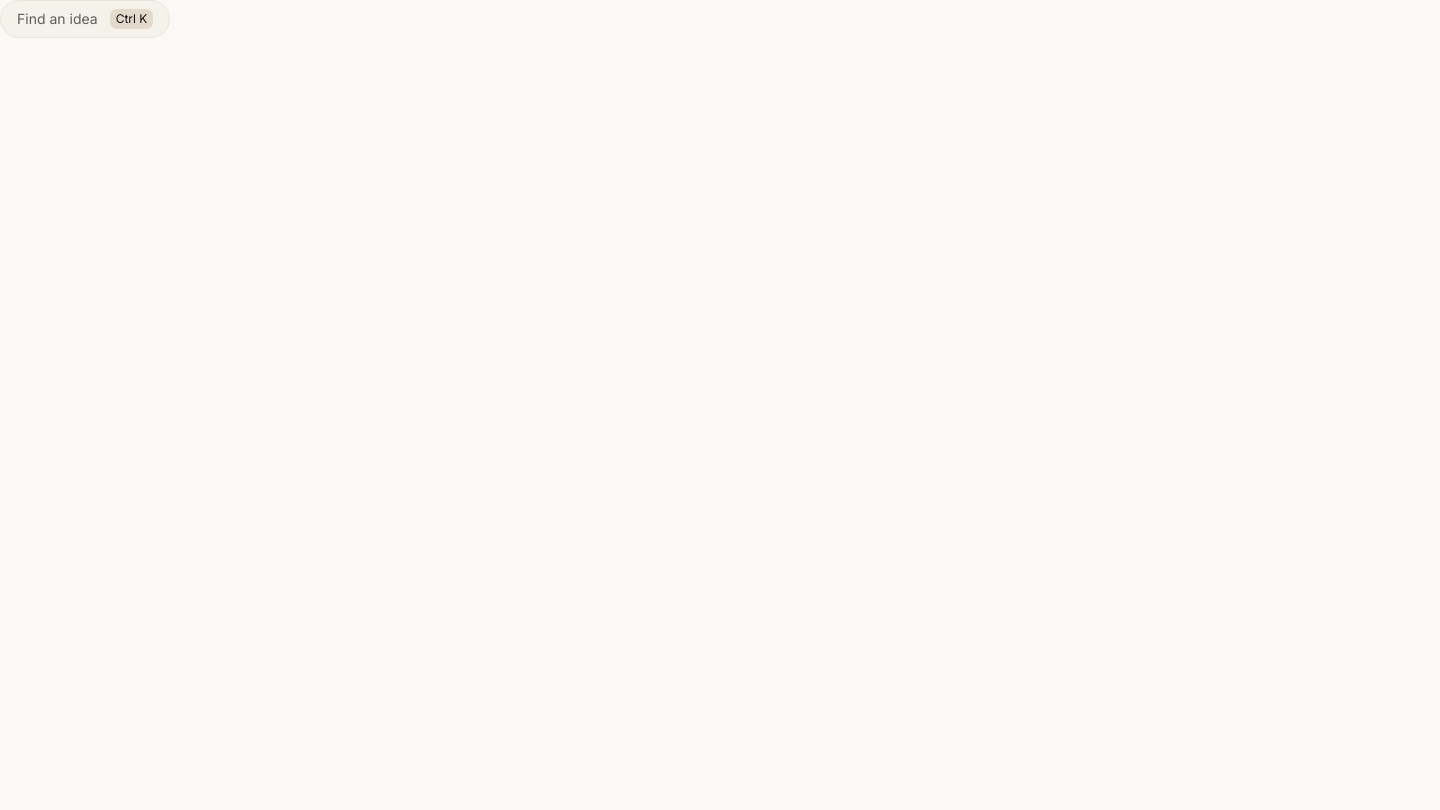
Test: CommandPalette › says so kindly when nothing matches
The width and height of the screenshot is (1440, 810).
Click the button "Find an idea Ctrl K": (85, 19) [0,0,170,38]
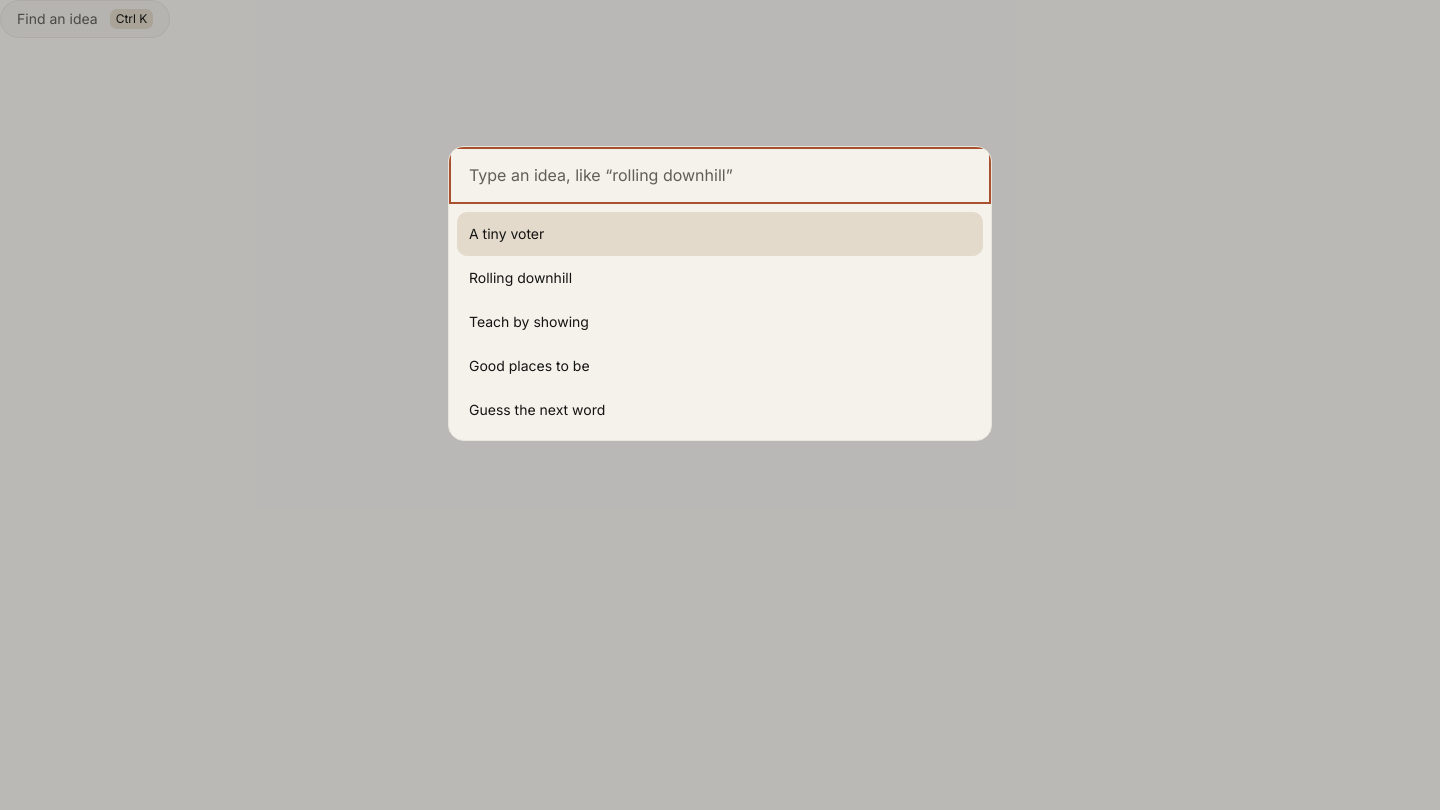
Type keys "zebra"
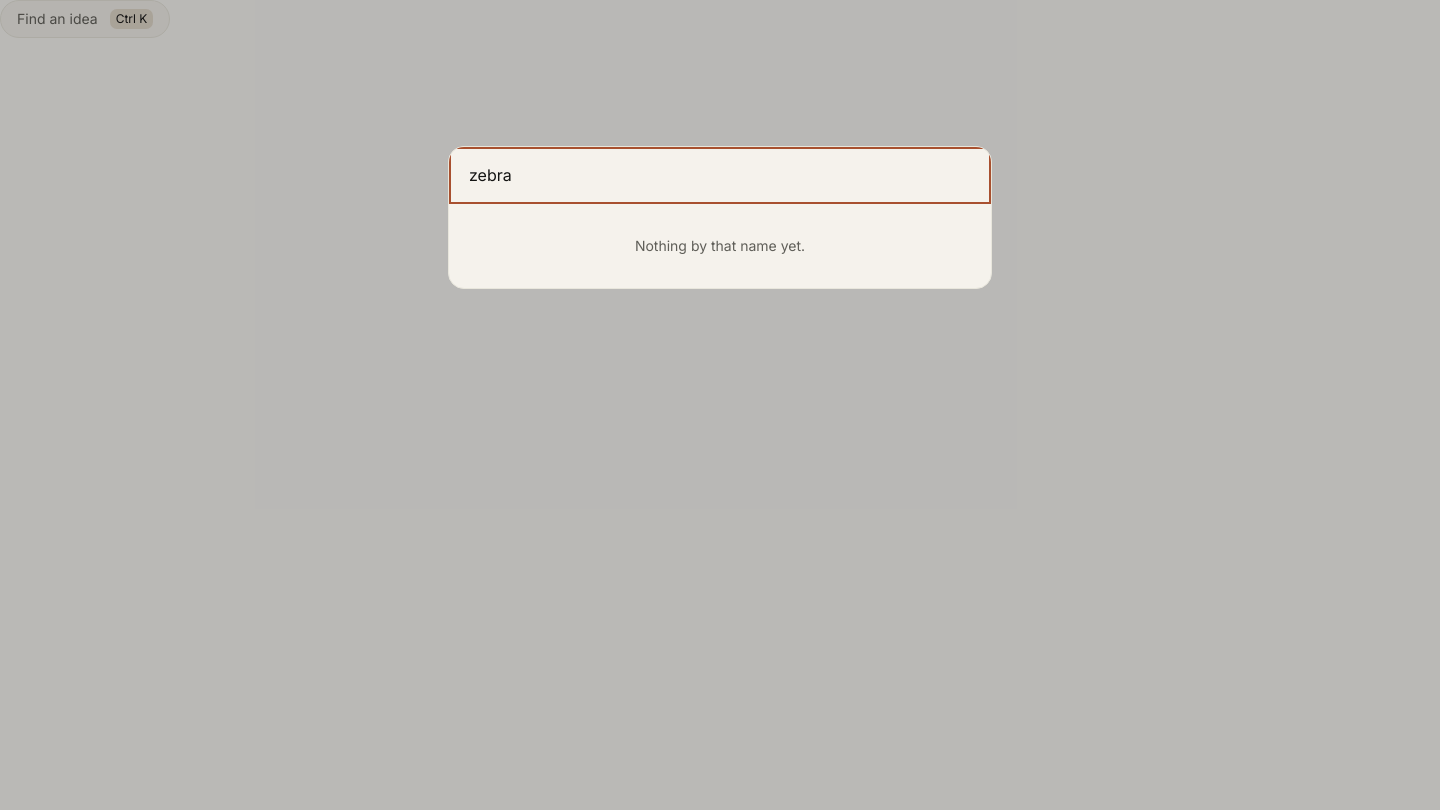
Check: the text "Nothing by that name yet." is shown, box [635,237,805,254]
